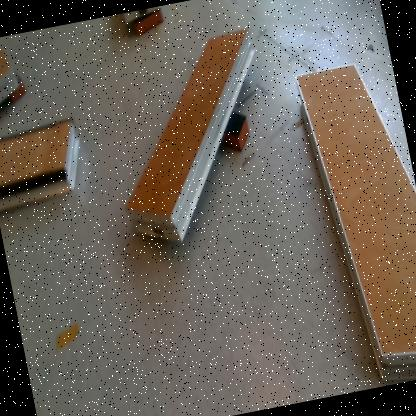Stairs: (296, 63, 416, 382), (127, 28, 257, 245), (1, 118, 81, 214), (1, 48, 21, 104)
